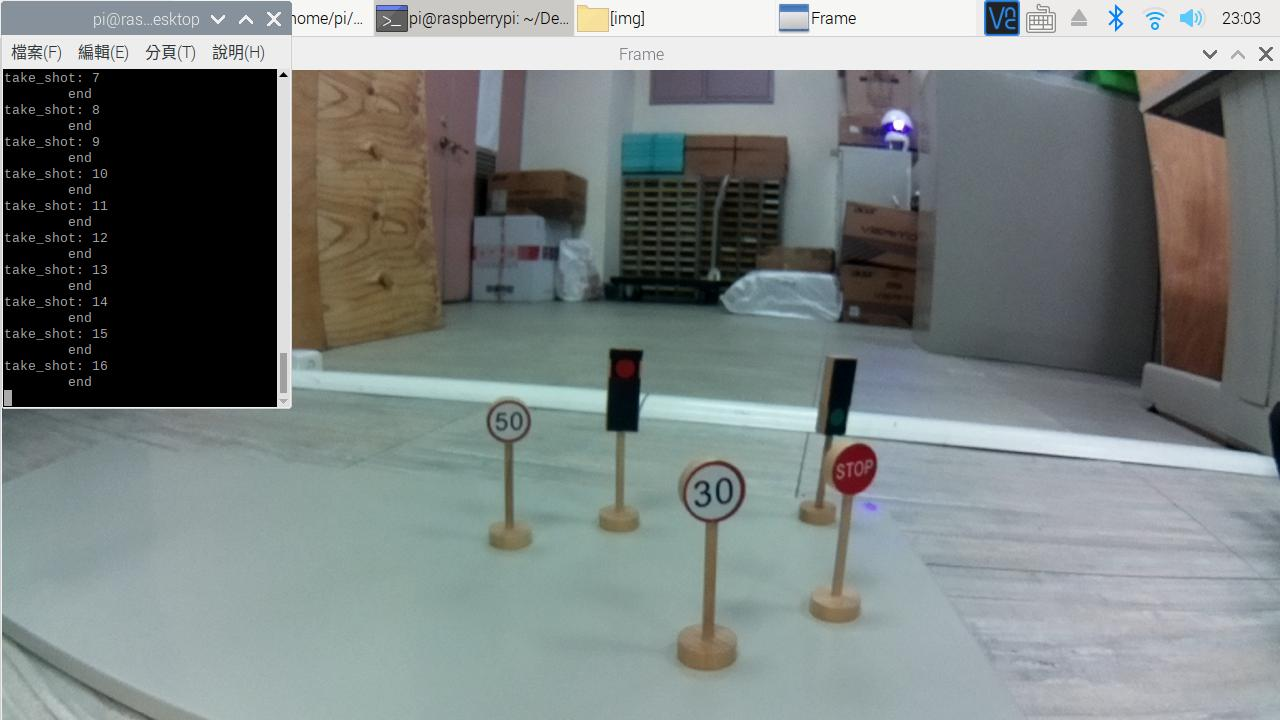Green: (828, 355, 854, 438)
Red: (609, 342, 638, 435)
Speed30: (680, 459, 744, 520)
Speed50: (481, 398, 531, 443)
Stop: (829, 444, 875, 498)
